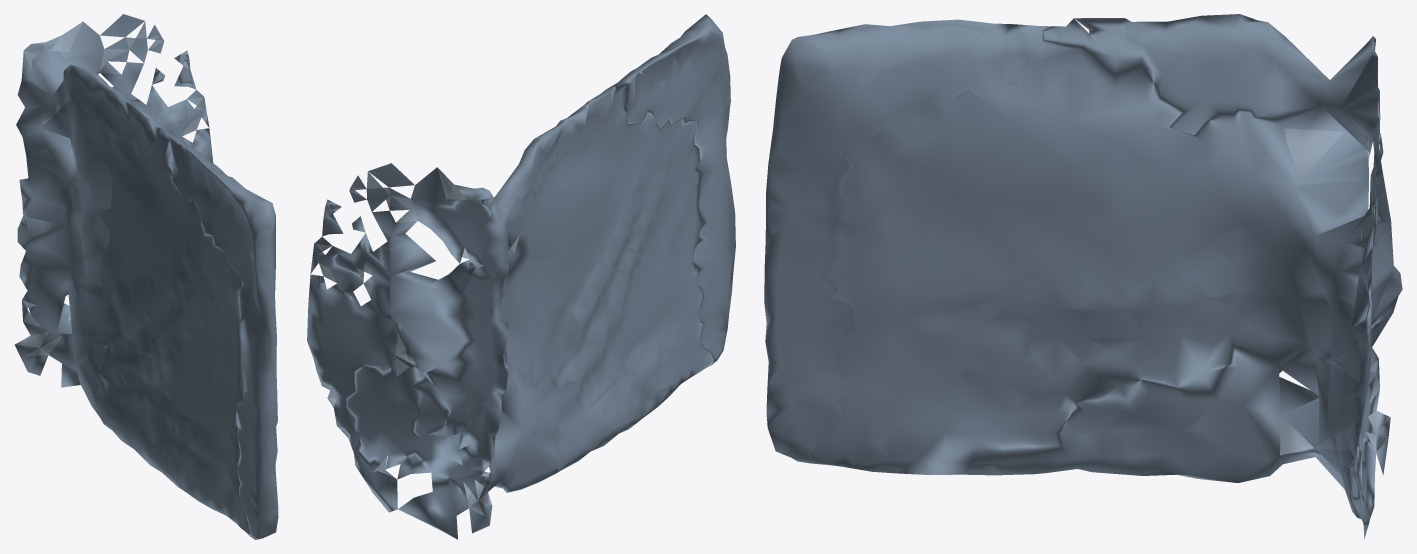
File: sample_500_recon.obj
3 renders of one model, left to right at view 1: azimuth 30°, elevation 25°; view 2: azimuth 150°, elevation 25°; view 3: azimuth 270°, elevation 25°, orthographic. The views are drawn at different scales.
Size of the model in its own units: 0.6606 by 1.16 by 1.43.
